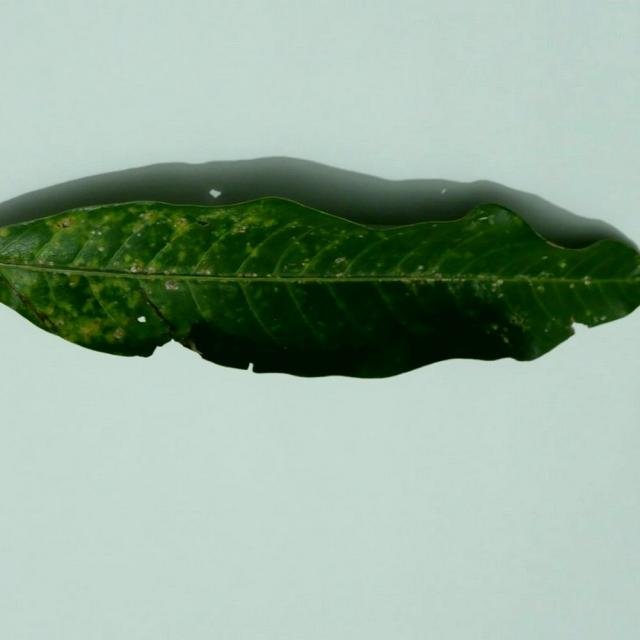Mango: (0, 197, 639, 378)
Powdery_Mildew: (130, 218, 227, 252), (485, 311, 529, 345), (477, 207, 515, 228), (167, 216, 191, 237), (583, 313, 616, 327), (201, 210, 232, 222), (33, 307, 50, 324), (53, 217, 73, 229), (509, 314, 526, 326), (228, 216, 246, 227), (545, 240, 566, 249), (563, 325, 576, 338), (231, 225, 249, 234), (236, 272, 262, 278), (81, 325, 95, 336), (165, 280, 180, 290), (131, 223, 146, 233), (68, 276, 81, 287), (175, 218, 189, 228), (131, 261, 145, 271), (142, 212, 157, 221), (153, 219, 168, 228), (113, 328, 125, 339), (490, 281, 503, 291), (196, 220, 210, 227), (540, 271, 553, 278), (0, 228, 11, 236), (335, 257, 347, 264), (197, 268, 209, 275), (476, 208, 486, 216), (403, 277, 414, 284), (558, 261, 567, 269), (583, 277, 592, 285), (466, 309, 475, 317), (130, 265, 138, 273), (147, 267, 156, 274), (128, 207, 137, 214), (11, 253, 20, 260), (586, 315, 595, 322), (169, 268, 179, 274), (478, 216, 490, 221), (57, 319, 65, 326), (495, 279, 503, 286), (125, 258, 133, 265), (510, 317, 518, 324), (501, 327, 509, 334), (282, 265, 291, 271), (592, 317, 601, 323), (537, 285, 544, 292), (502, 336, 509, 343), (568, 317, 575, 324), (290, 237, 297, 244), (416, 265, 424, 271), (290, 224, 298, 230), (335, 272, 344, 277), (139, 213, 146, 219), (491, 324, 498, 330), (125, 255, 132, 261), (164, 269, 171, 275), (318, 321, 325, 327), (569, 283, 575, 289), (498, 292, 504, 298), (600, 315, 606, 321), (376, 262, 382, 268), (113, 261, 120, 266), (303, 258, 310, 263), (38, 259, 45, 264), (436, 273, 443, 278), (541, 255, 548, 260), (48, 261, 54, 266), (98, 246, 104, 251), (294, 241, 300, 246), (298, 279, 305, 283), (274, 287, 279, 292), (405, 292, 410, 297), (237, 318, 242, 323), (432, 224, 438, 228), (90, 230, 96, 234), (358, 235, 364, 238), (98, 231, 102, 235), (273, 318, 277, 321)
